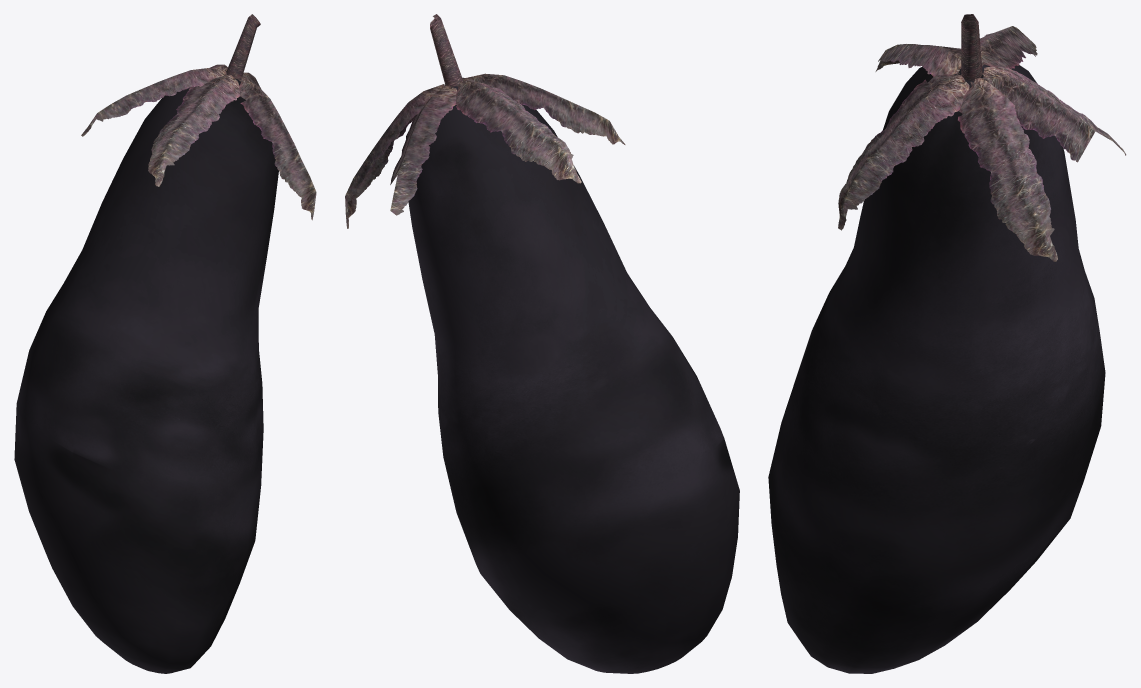
The model's file is VG19_9_clip1fruit.obj.
The picture shows the model from 3 angles, left to right: view 1: azimuth 30°, elevation 25°; view 2: azimuth 150°, elevation 25°; view 3: azimuth 270°, elevation 25°; orthographic projection. The views are drawn at different scales.
Size of the model in its own units: 0.051 by 0.0991 by 0.0439.
Materials: 3 (3 with a texture image).
